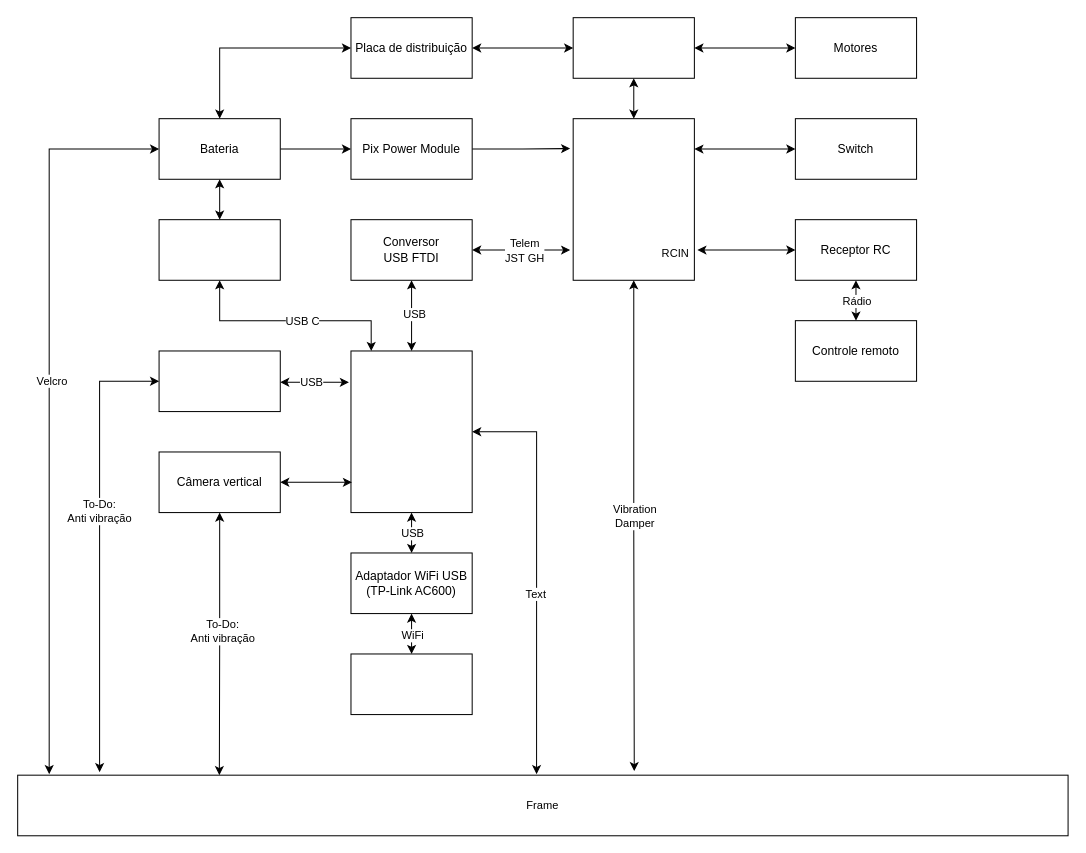
The diagram is 1086 pixels wide and 853 high, and some of its shapes have lost their labels. The centre of each missing label's shape, as x and y in pixels:
"Computador de bordo (RPi/Nuc)" goes at (411,431).
"Controladora de voo (Pixhawk)" goes at (633,199).
"Conversor/ Regulador" goes at (219,249).
"ESCs" goes at (633,47).
"Estação de solo (Melhor notebook entre os membros)" goes at (411,684).
"OAK-D Lite" goes at (219,381).
